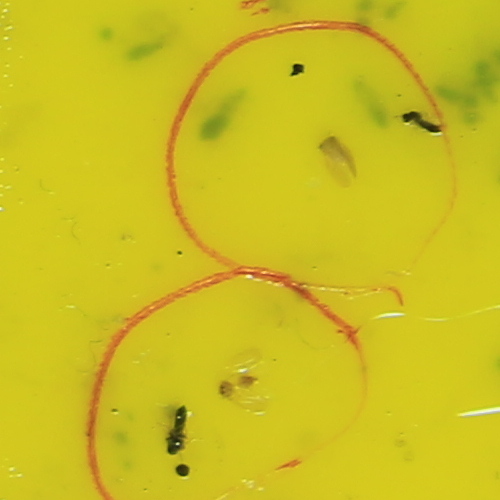psylla: (313, 132, 349, 166), (216, 374, 258, 394)
wasp: (162, 405, 190, 456)
